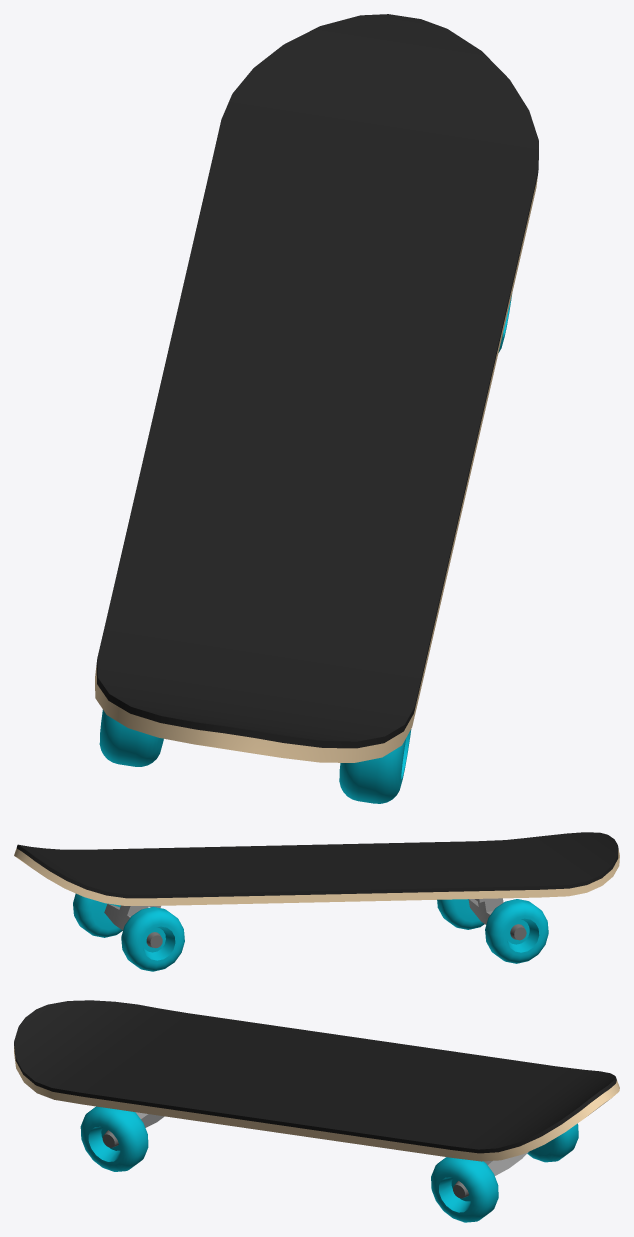
File: skateboard.glb
3 views of the same model, one above another, from view 1: azimuth 30°, elevation 25°; view 2: azimuth 150°, elevation 25°; view 3: azimuth 270°, elevation 25° (orthographic). The views are drawn at different scales.
Parts seen in each view (by area): view 1: Plane.231; view 2: Plane.231; view 3: Plane.231.
Part boxes in pixels (x1,y1,x2,y2): Plane.231: (95,14,538,803); Plane.231: (14,832,619,971); Plane.231: (14,1000,619,1222).
Bounding box in the file's own units: 2.19 × 0.9558 × 2.62.
1 material, 1 textured.
